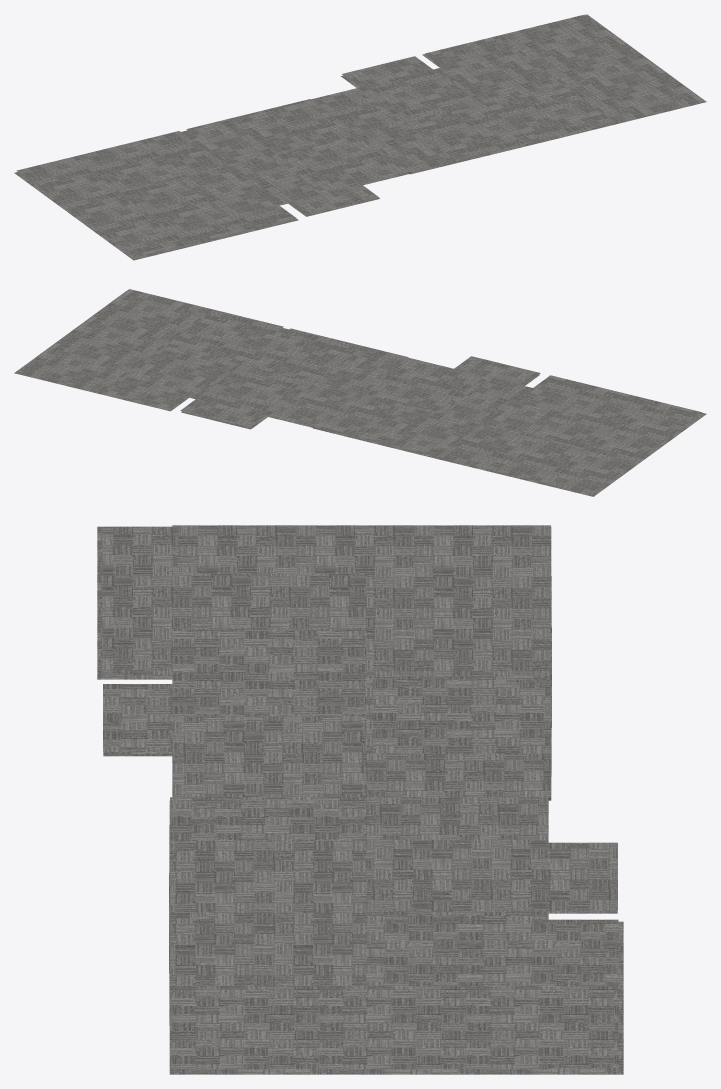
Rendered from FloorOfficeBrokenUp.fbx.
The picture shows the model from 3 angles, top to bottom: view 1: azimuth 30°, elevation 25°; view 2: azimuth 150°, elevation 25°; view 3: azimuth 270°, elevation 25°; orthographic projection. The views are drawn at different scales.
Visible parts, largest first — view 1: FD5, FLoorDetach, floorDe, FD6, fD8, FD7, FloorD2, FD3, FD004, FD4; view 2: FD5, FLoorDetach, floorDe, FD6, fD8, FD7, FloorD2, FD3, FD004, FD4; view 3: FLoorDetach, FD5, floorDe, FD6, fD8, FD7, FloorD2, FD3, FD004, FD4.
Part boxes in pixels (box(x1,y1,x2,y2)): FD5: box(14, 131, 227, 243); FLoorDetach: box(497, 14, 706, 124); floorDe: box(405, 85, 614, 162); FD6: box(272, 123, 456, 193); fD8: box(63, 179, 298, 260); FD7: box(178, 156, 379, 218); FloorD2: box(422, 36, 562, 104); FD3: box(341, 56, 482, 123); FD004: box(263, 88, 404, 145); FD4: box(181, 110, 310, 166); FD5: box(437, 413, 685, 496); FLoorDetach: box(14, 289, 213, 394); floorDe: box(165, 310, 364, 382); FD6: box(316, 346, 489, 412); fD8: box(531, 375, 706, 462); FD7: box(442, 356, 579, 434); FloorD2: box(101, 346, 240, 411); FD3: box(180, 364, 314, 429); FD004: box(270, 382, 403, 439); FD4: box(358, 404, 482, 458); FLoorDetach: box(169, 986, 623, 1074); FD5: box(172, 525, 551, 679); floorDe: box(169, 839, 366, 989); FD6: box(169, 716, 366, 842); fD8: box(97, 526, 366, 679); FD7: box(102, 629, 366, 756); FloorD2: box(366, 912, 623, 989); FD3: box(366, 839, 617, 913); FD004: box(366, 753, 551, 839); FD4: box(366, 676, 551, 756).
Bounding box in the file's own units: 1948 × 5.48 × 791.
Materials: 1 (1 with a texture image).
